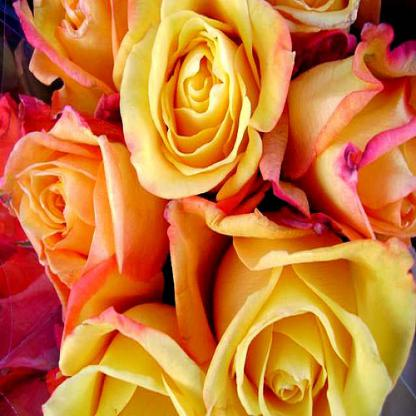ROSE-MAWAR: (5, 2, 416, 416)
